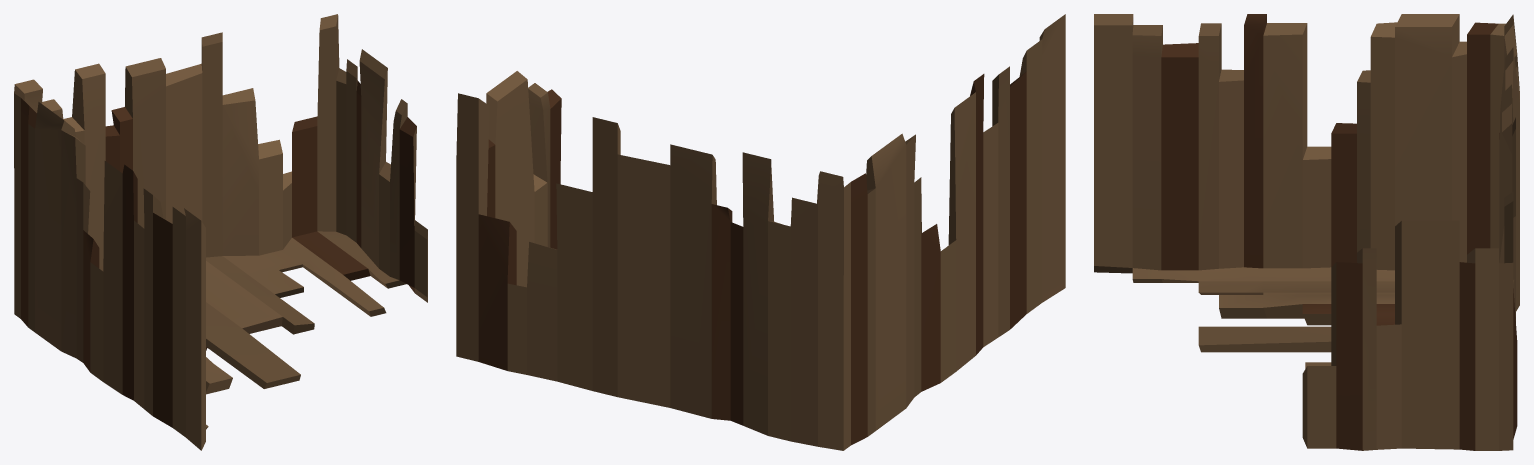
File: broken_shack.fbx
The picture shows the model from 3 angles, left to right: view 1: azimuth 30°, elevation 25°; view 2: azimuth 150°, elevation 25°; view 3: azimuth 270°, elevation 25°; orthographic projection. The views are drawn at different scales.
Parts seen in each view (by area): view 1: shack; view 2: shack; view 3: shack.
Boxes of the visible parts, x1,y1,x2,y2 form: shack: (14, 14, 427, 450); shack: (456, 14, 1065, 450); shack: (1094, 14, 1519, 450).
Size of the model in its own units: 560 by 374 by 559.
